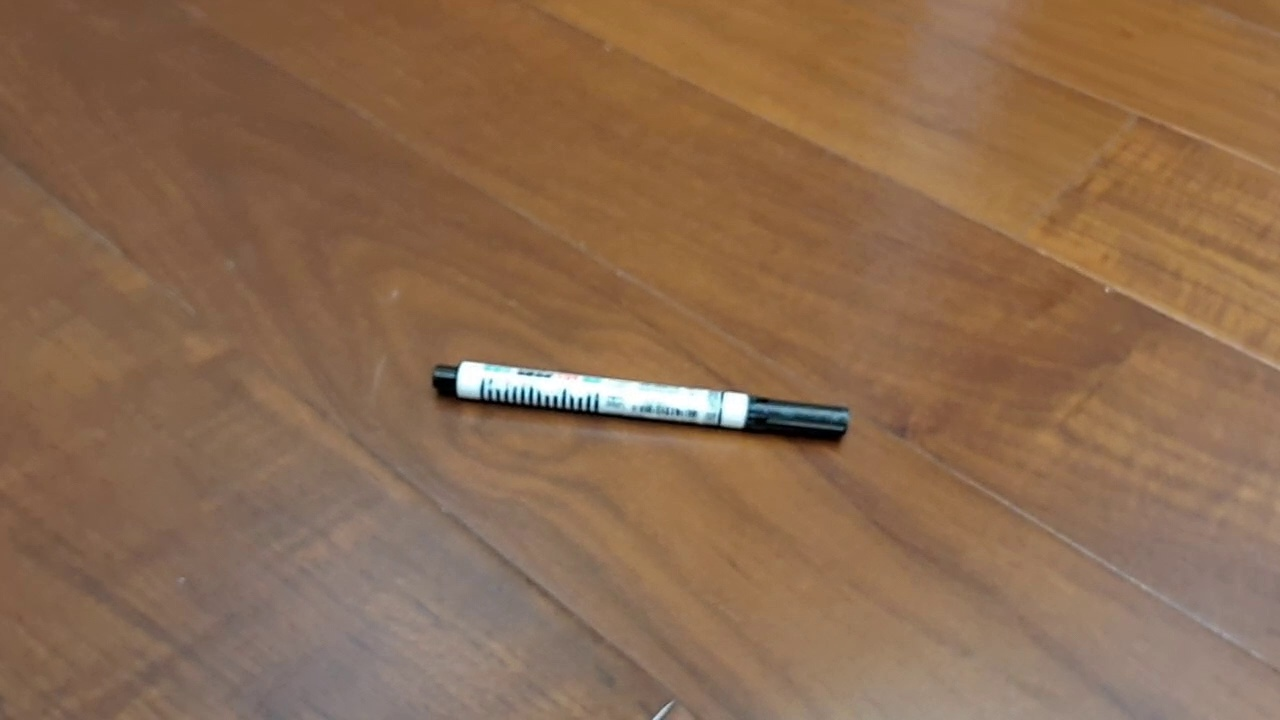pen: (432, 359, 851, 442)
